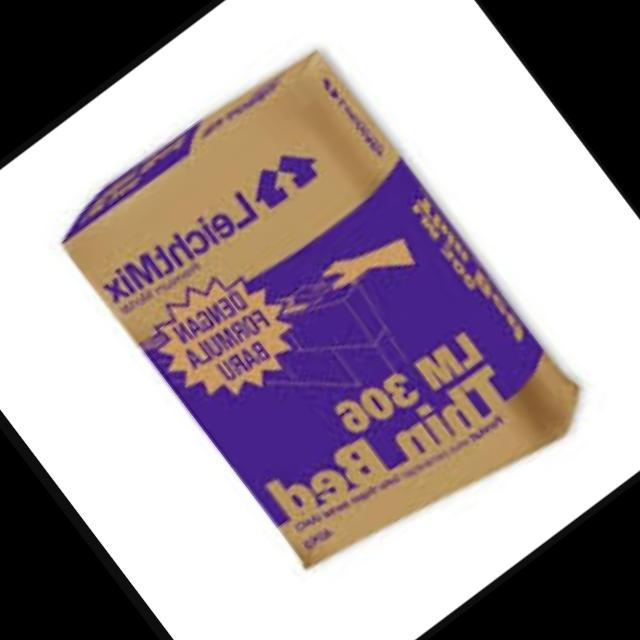KantongSemen: (46, 28, 600, 608)
